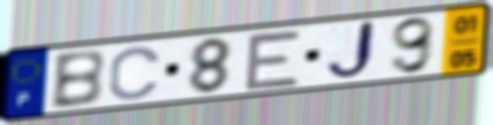8: (186, 35, 235, 97)
9: (386, 14, 439, 76)
B: (48, 47, 108, 112)
C: (106, 44, 165, 103)
E: (242, 28, 306, 93)
J: (323, 17, 380, 84)
